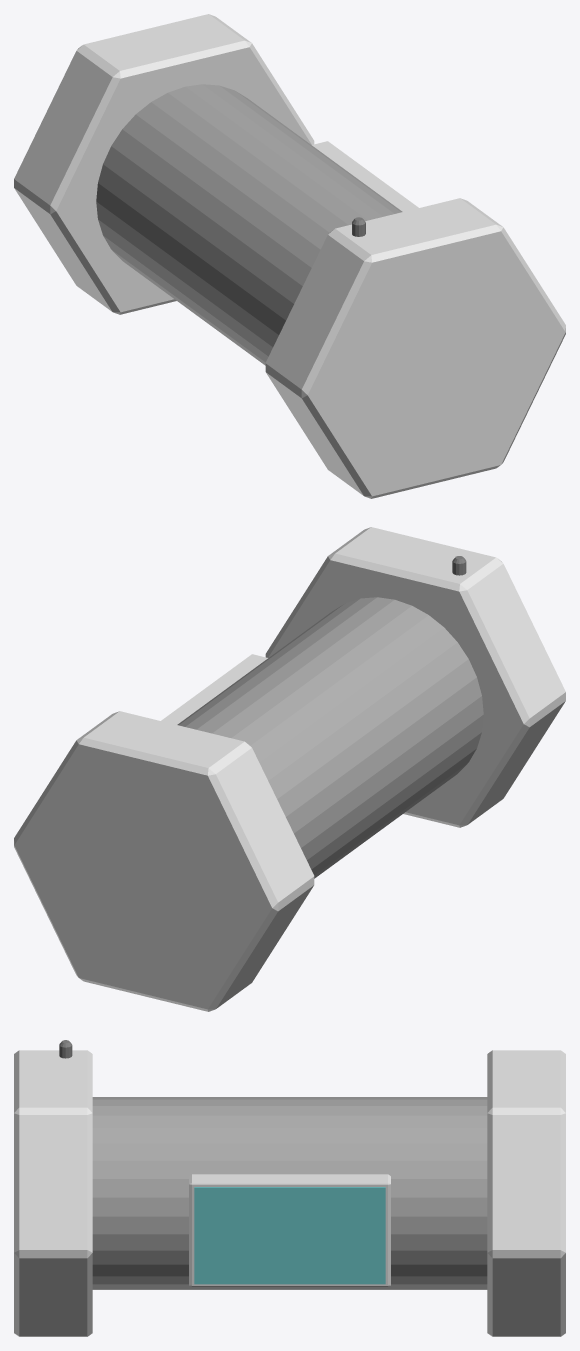
File: flow-sensor.fbx
3 views of the same model, one above another, from view 1: azimuth 30°, elevation 25°; view 2: azimuth 150°, elevation 25°; view 3: azimuth 270°, elevation 25° (orthographic). The views are drawn at different scales.
Visible parts, largest first — view 1: Cylinder.001, Cylinder, Cylinder.002, Cube; view 2: Cylinder.002, Cylinder, Cylinder.001, Cube; view 3: Cylinder, Cylinder.002, Cylinder.001, Cube.001, Cube.
Part boxes in pixels (bbox=[...]): Cylinder.001: bbox=[265, 198, 565, 498]; Cylinder: bbox=[96, 84, 402, 365]; Cylinder.002: bbox=[14, 14, 314, 314]; Cube: bbox=[312, 141, 418, 211]; Cylinder.002: bbox=[14, 711, 314, 1011]; Cylinder: bbox=[177, 597, 483, 878]; Cylinder.001: bbox=[265, 527, 565, 827]; Cube: bbox=[161, 654, 267, 724]; Cylinder: bbox=[92, 1097, 487, 1289]; Cylinder.002: bbox=[487, 1050, 565, 1336]; Cylinder.001: bbox=[14, 1050, 92, 1336]; Cube.001: bbox=[194, 1187, 385, 1284]; Cube: bbox=[189, 1174, 390, 1286].
Size of the model in its own units: 155 by 145 by 298.
